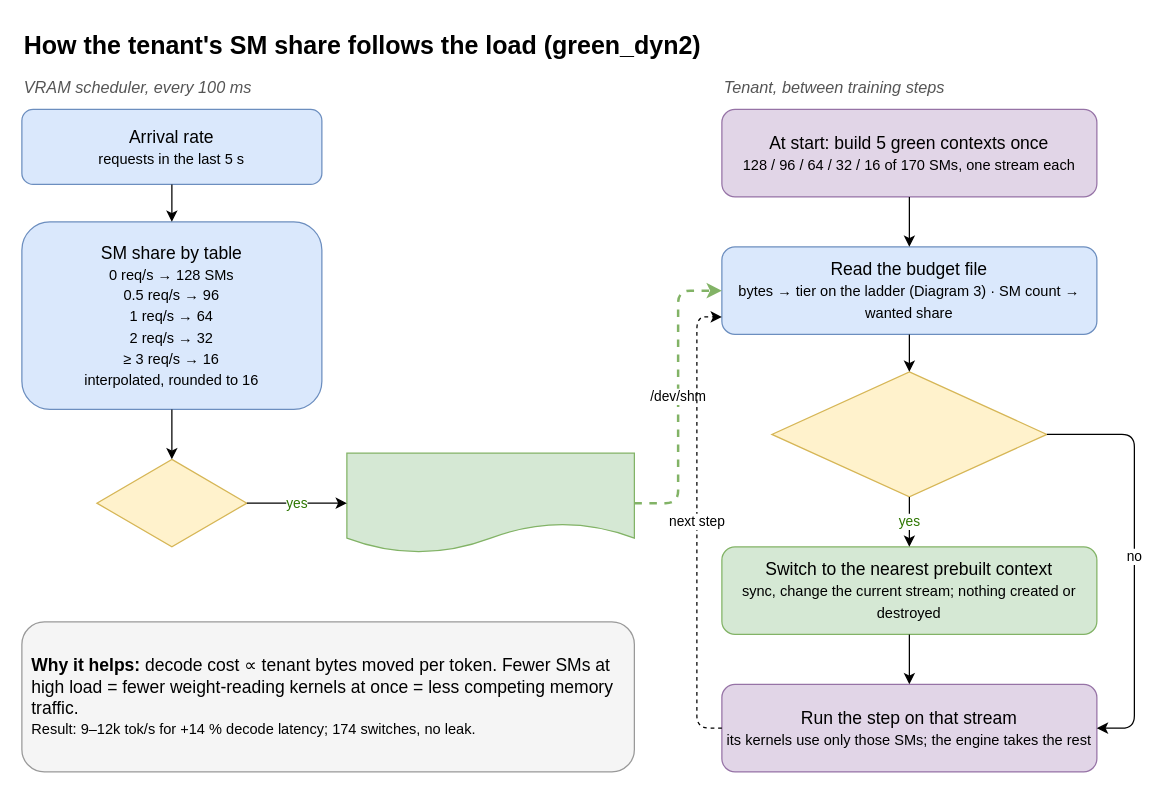
Image size: 1169x794. Some labels were removed from this diagram. The centre of each missing label's shape, as x and y in pixels:
"changed?" goes at point (171, 502).
"publish: tenant budget (bytes) + SM count at most once per second" goes at point (490, 502).
"share changed, and > 1 s since the last switch?" goes at point (909, 434).
